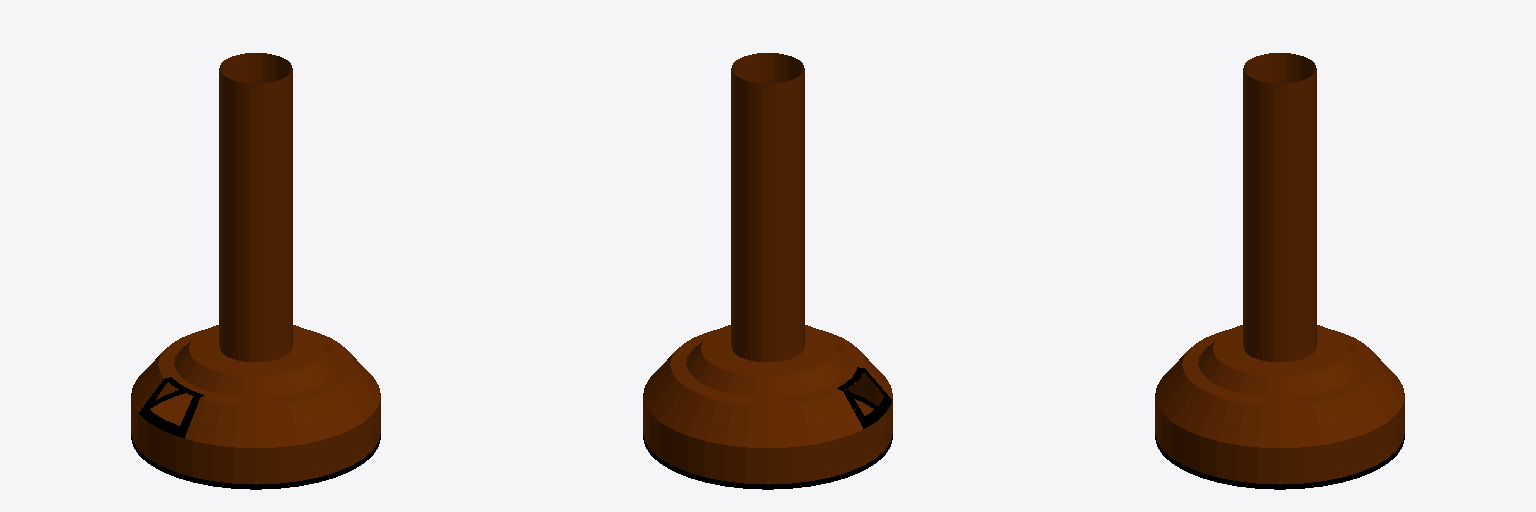
The model's file is ketel.obj.
The picture shows the model from 3 angles: view 1: azimuth 30°, elevation 25°; view 2: azimuth 150°, elevation 25°; view 3: azimuth 270°, elevation 25°; orthographic projection.
Parts seen in each view (by area): view 1: Oil_Tank.001, Cylinder, Oil_Tank; view 2: Oil_Tank.001, Cylinder, Oil_Tank; view 3: Oil_Tank.001, Cylinder, Oil_Tank.
Part boxes in pixels (left/top/right/bottom): Oil_Tank.001: left=131, top=325, right=380, bottom=489; Cylinder: left=219, top=53, right=292, bottom=361; Oil_Tank: left=131, top=325, right=380, bottom=489; Oil_Tank.001: left=643, top=325, right=892, bottom=489; Cylinder: left=731, top=53, right=804, bottom=361; Oil_Tank: left=643, top=326, right=892, bottom=489; Oil_Tank.001: left=1155, top=325, right=1404, bottom=489; Cylinder: left=1243, top=53, right=1316, bottom=361; Oil_Tank: left=1155, top=326, right=1404, bottom=489.
Size of the model in its own units: 1.37 by 2.28 by 1.37.